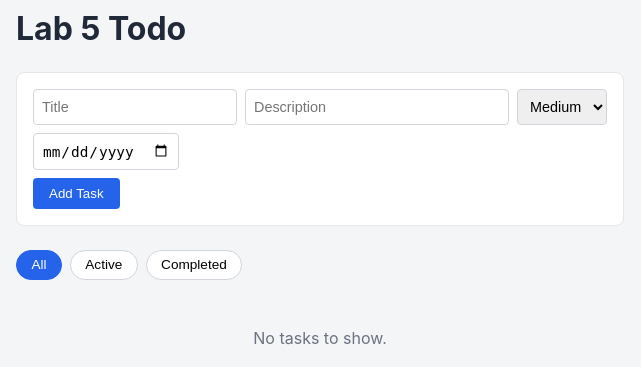
Test: App integration › submitting the real TaskForm adds the task to the real TaskList
Expected: the text "No tasks to show." is shown, [253,328,387,348]
Type "Integration test task" into the field with placeholder "Title" at (135, 107), box [33,89,237,125]
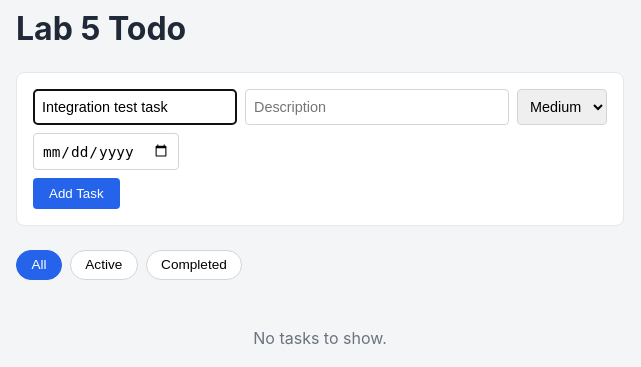
Select "High" in the dropdown at (562, 107), box [517,89,607,125]
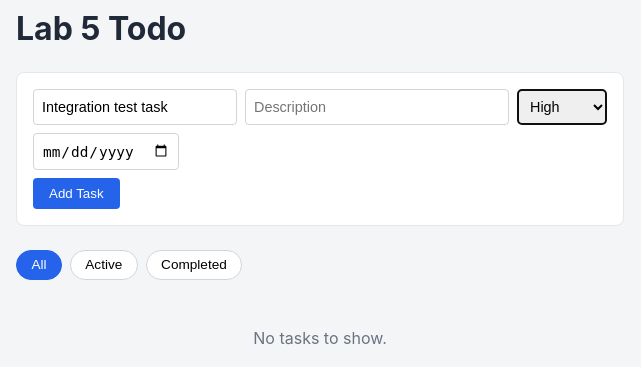
Click the button "Add Task" at (76, 193), box [33,178,120,209]
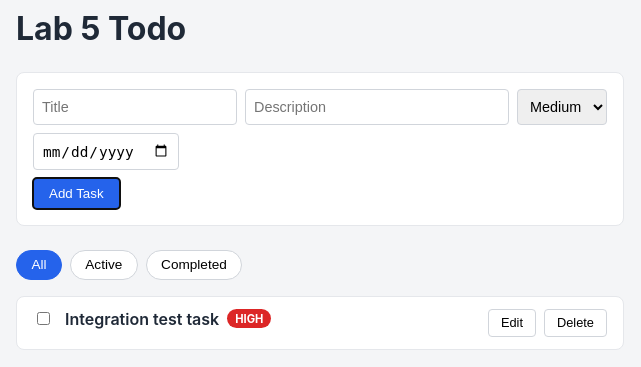
Expected: the text "HIGH" is shown, [227,309,272,328]
